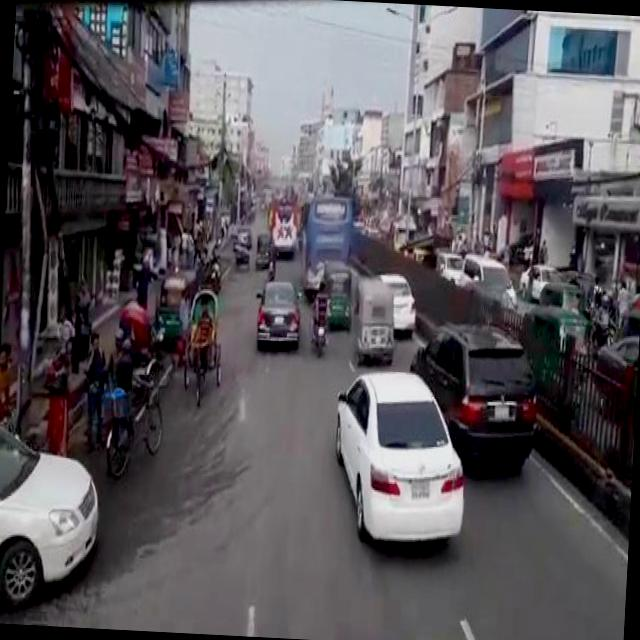bus: (300, 192, 354, 288), (264, 194, 298, 252)
car: (328, 364, 468, 548), (403, 318, 545, 462), (0, 420, 104, 606), (590, 333, 638, 413), (254, 276, 303, 346), (374, 270, 416, 332), (518, 257, 552, 297), (436, 250, 462, 279)
motorcycle: (516, 299, 592, 410), (114, 297, 178, 384), (180, 286, 224, 406), (348, 271, 398, 363), (154, 262, 196, 344), (318, 254, 354, 326), (538, 278, 582, 306), (253, 229, 270, 266)
truck: (460, 250, 521, 308)
